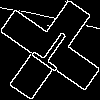T: (25, 25, 77, 80)
